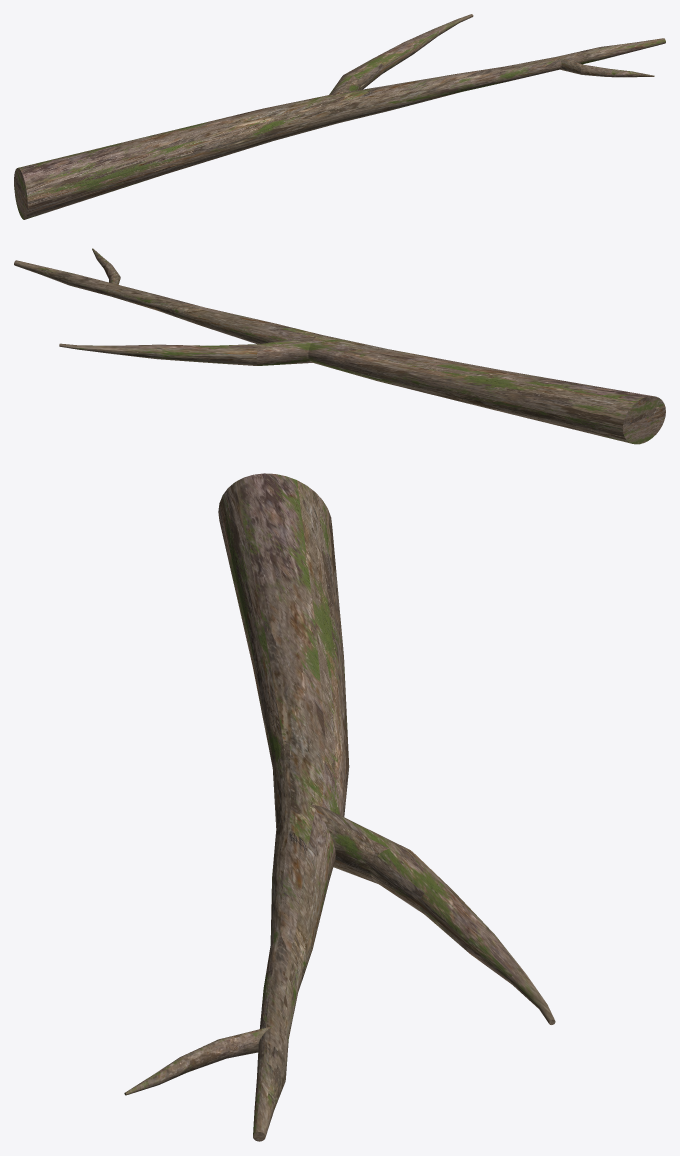
File: ranting 1.fbx
3 views of the same model, one above another, from view 1: azimuth 30°, elevation 25°; view 2: azimuth 150°, elevation 25°; view 3: azimuth 270°, elevation 25° (orthographic). The views are drawn at different scales.
Parts seen in each view (by area): view 1: Cylinder.003; view 2: Cylinder.003; view 3: Cylinder.003.
Part boxes in pixels (x1,y1,x2,y2): Cylinder.003: (14,14,665,219); Cylinder.003: (14,248,665,444); Cylinder.003: (124,473,555,1141).
Size of the model in its own units: 351 by 23.72 by 102.
